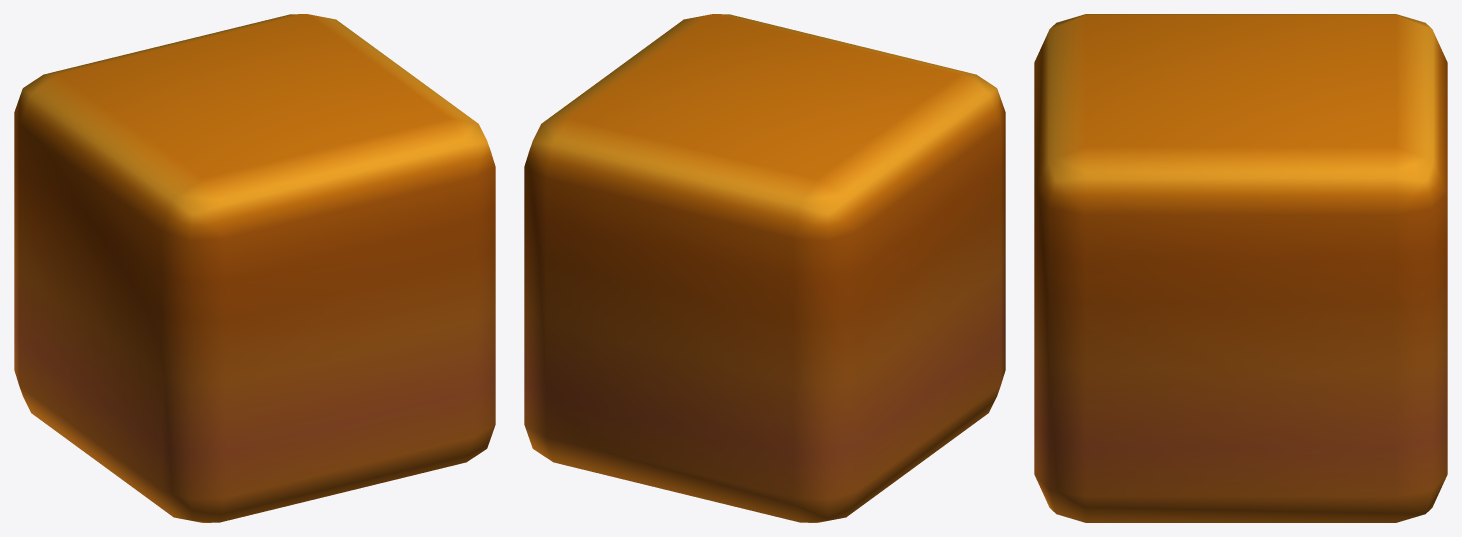
Rendered from block_fields_2_0.fbx.
The picture shows the model from 3 angles, left to right: view 1: azimuth 30°, elevation 25°; view 2: azimuth 150°, elevation 25°; view 3: azimuth 270°, elevation 25°; orthographic projection. The views are drawn at different scales.
Visible parts, largest first — view 1: block_fields_2_0; view 2: block_fields_2_0; view 3: block_fields_2_0.
Boxes of the visible parts, x1=… form: block_fields_2_0: x1=14, y1=14, x2=495, y2=522; block_fields_2_0: x1=524, y1=14, x2=1005, y2=522; block_fields_2_0: x1=1034, y1=14, x2=1447, y2=522.
Bounding box in the file's own units: 200 × 200 × 200.
